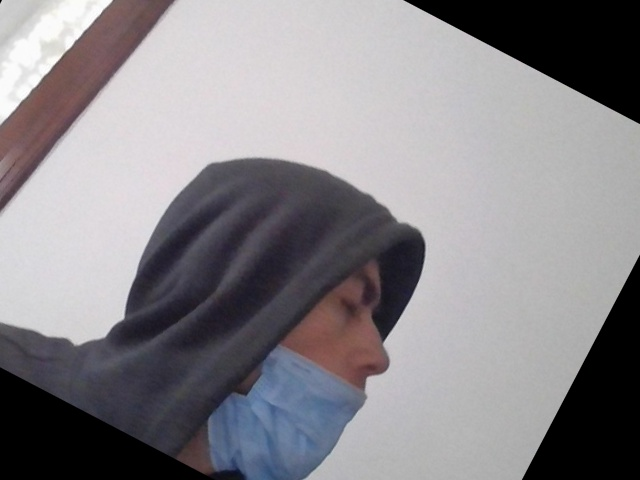mask_weared_incorrect: (234, 225, 404, 480)
